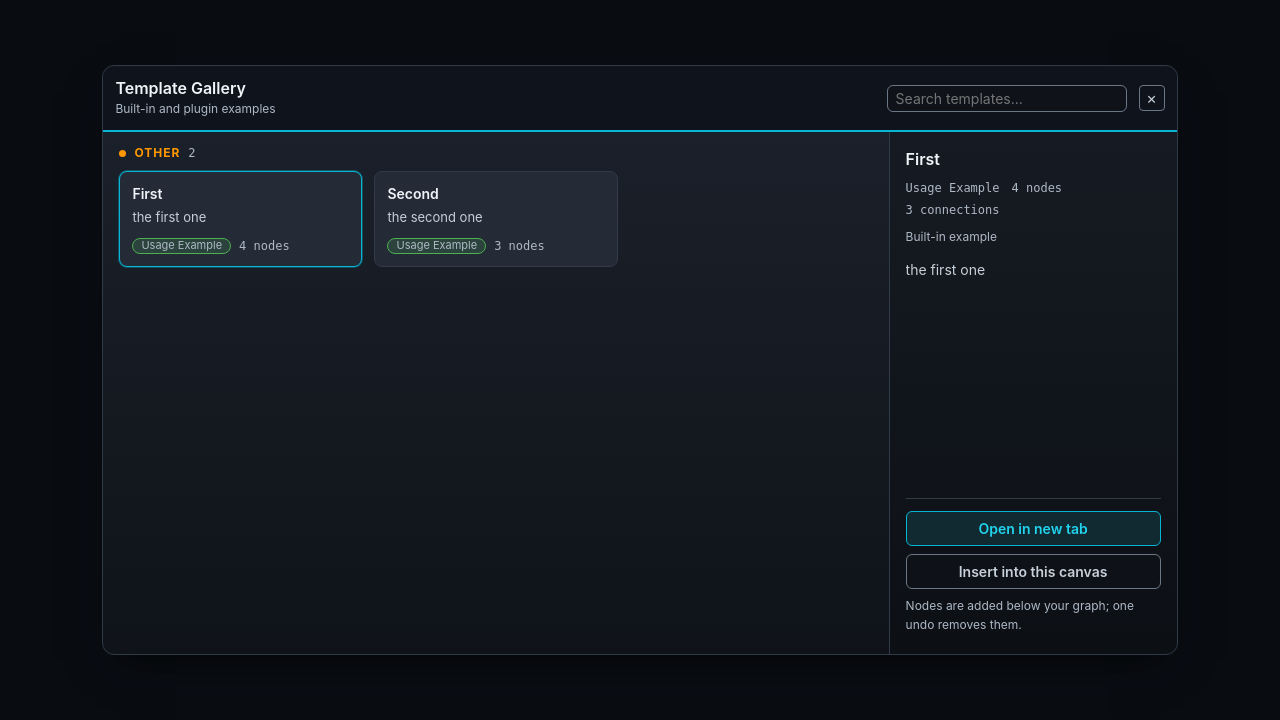
Scenario: TemplateGalleryModal › describes the first example until another is chosen
Expected: the text "the first one" below "Built-in example" is shown, [906,261,985,278]
Expected: the 1st text "First" is shown, [906,149,940,169]
What coordinates should you click on to do the following:
click the text "Second"
I would click on:
 (413, 194)
Its box is [388,184,439,204].
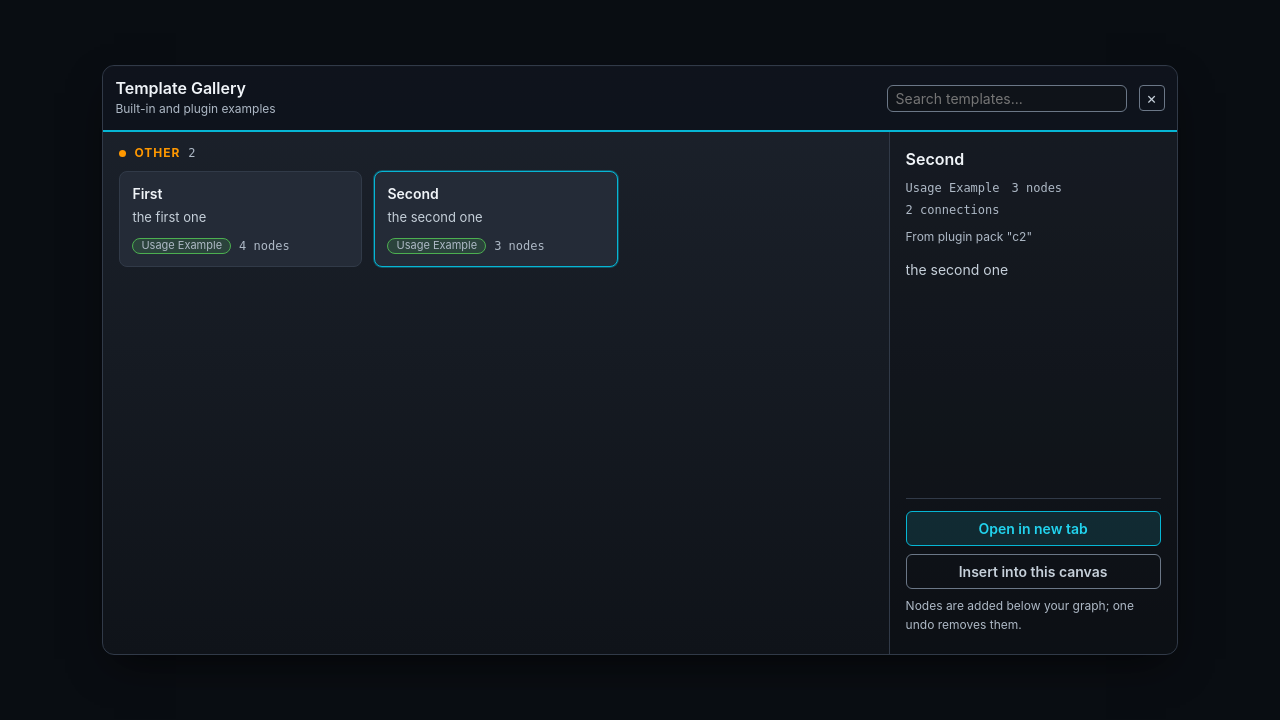
Expected: the text "the second one" below "From plugin pack \"c2\"" is shown, [906,261,1008,278]
Expected: the text "From plugin pack \"c2\"" is shown, [906,229,1032,244]
